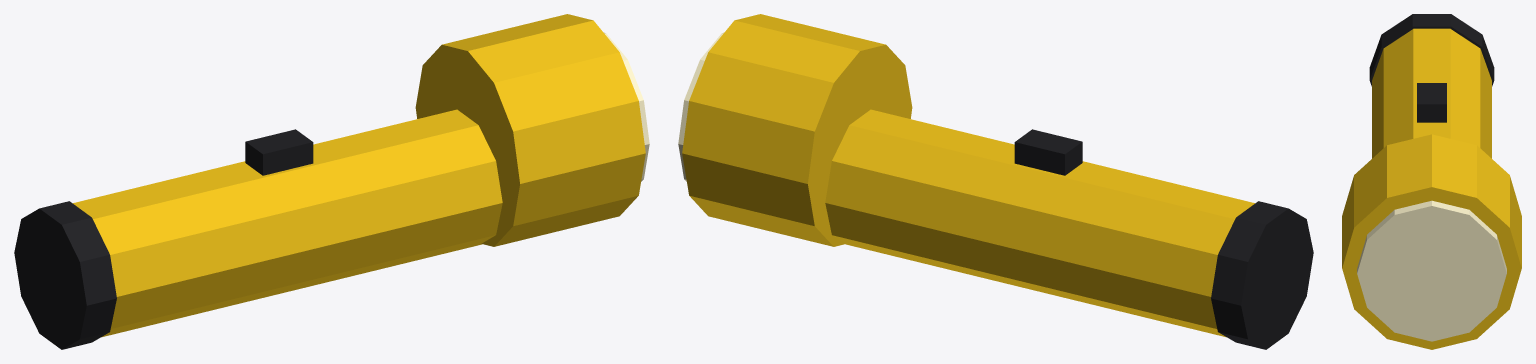
The model's file is Item_Flashlight.glb.
3 views of the same model, side by side, from view 1: azimuth 30°, elevation 25°; view 2: azimuth 150°, elevation 25°; view 3: azimuth 270°, elevation 25° (orthographic). The views are drawn at different scales.
Visible parts, largest first — view 1: Flashlight_Body, Flashlight_Head, Flashlight_Cap, Flashlight_Switch, Flashlight_Lens; view 2: Flashlight_Body, Flashlight_Head, Flashlight_Cap, Flashlight_Switch, Flashlight_Lens; view 3: Flashlight_Lens, Flashlight_Head, Flashlight_Body, Flashlight_Cap, Flashlight_Switch.
Part boxes in pixels (left/top/right/bottom): Flashlight_Body: left=73, top=109, right=502, bottom=337; Flashlight_Head: left=415, top=14, right=645, bottom=246; Flashlight_Cap: left=14, top=201, right=116, bottom=349; Flashlight_Switch: left=245, top=129, right=313, bottom=175; Flashlight_Lens: left=604, top=32, right=649, bottom=181; Flashlight_Body: left=825, top=109, right=1254, bottom=337; Flashlight_Head: left=682, top=14, right=912, bottom=246; Flashlight_Cap: left=1211, top=201, right=1313, bottom=349; Flashlight_Switch: left=1014, top=129, right=1082, bottom=175; Flashlight_Lens: left=678, top=32, right=723, bottom=181; Flashlight_Lens: left=1357, top=200, right=1506, bottom=341; Flashlight_Head: left=1342, top=134, right=1521, bottom=349; Flashlight_Body: left=1372, top=28, right=1491, bottom=158; Flashlight_Cap: left=1369, top=14, right=1494, bottom=86; Flashlight_Switch: left=1417, top=83, right=1446, bottom=122.
Size of the model in its own units: 0.221 by 0.072 by 0.072.
